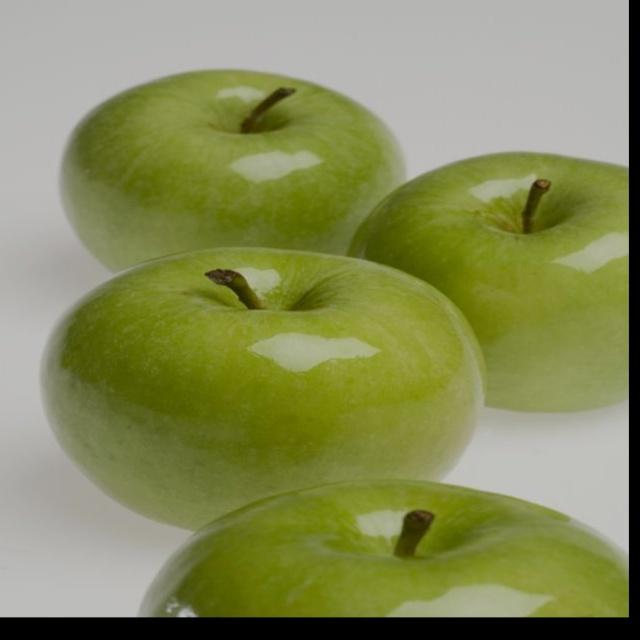green apple: (39, 247, 498, 537), (347, 147, 628, 416), (123, 478, 628, 617), (55, 65, 403, 262)
